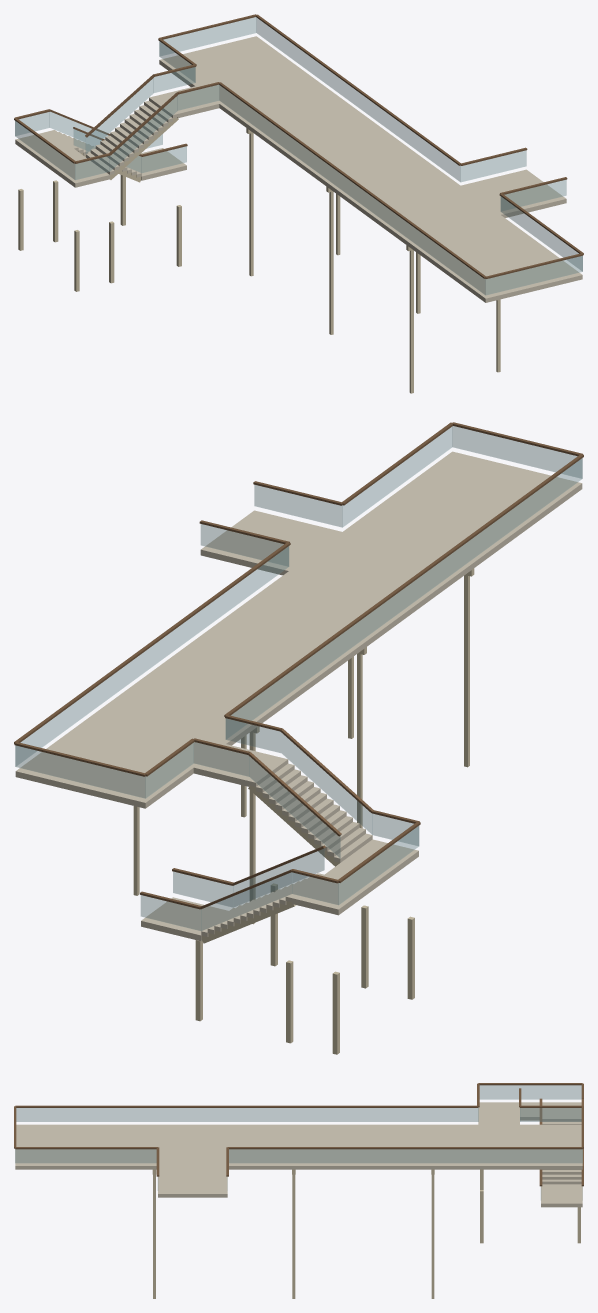
File: ForemidOrchardReceiver_r002.glb
The picture shows the model from 3 angles, top to bottom: view 1: azimuth 30°, elevation 25°; view 2: azimuth 150°, elevation 25°; view 3: azimuth 270°, elevation 25°; orthographic projection. The views are drawn at different scales.
Parts seen in each view (by area): view 1: UpperStationGallery, GalleryWestSouth_glass, GalleryEastNorth_glass, MissingOnlyOverRailReceiving, MidLanding, ThirdStopHold_glass, GalleryNorth_glass, GalleryEastSouth_glass, GalleryWestSouth_handrail, UpperStairArrival, LowerStairArrival, BridgeNorth_glass (+16 smaller); view 2: UpperStationGallery, GalleryWestSouth_glass, GalleryEastNorth_glass, MissingOnlyOverRailReceiving, MidLanding, GalleryNorth_glass, ThirdStopHold_glass, GalleryEastSouth_glass, LowerStairArrival, GalleryWestSouth_handrail, WestGlass0, UpperStairArrival (+17 smaller); view 3: UpperStationGallery, GalleryWestSouth_glass, GalleryEastNorth_glass, MissingOnlyOverRailReceiving, GalleryEastSouth_glass, MidWest_glass, GalleryWestSouth_handrail, GalleryEastNorth_handrail, LowerStairArrival, MidLanding, GalleryWestNorth_glass, UpperStairArrival (+5 smaller).
Boxes of the visible parts, <box> form: UpperStationGallery: <box>159,36,582,302</box>; GalleryWestSouth_glass: <box>219,85,485,294</box>; GalleryEastNorth_glass: <box>256,18,460,181</box>; MissingOnlyOverRailReceiving: <box>461,169,566,217</box>; MidLanding: <box>15,131,109,187</box>; ThirdStopHold_glass: <box>486,256,582,294</box>; GalleryNorth_glass: <box>159,17,256,55</box>; GalleryEastSouth_glass: <box>501,197,582,270</box>; GalleryWestSouth_handrail: <box>218,82,486,278</box>; UpperStairArrival: <box>154,86,219,118</box>; LowerStairArrival: <box>129,148,186,180</box>; BridgeNorth_glass: <box>461,150,526,181</box>; UpperStationGallery: <box>15,451,582,808</box>; GalleryWestSouth_glass: <box>226,458,582,738</box>; GalleryEastNorth_glass: <box>15,546,288,766</box>; MissingOnlyOverRailReceiving: <box>200,510,341,575</box>; MidLanding: <box>292,839,418,915</box>; GalleryNorth_glass: <box>15,745,145,798</box>; ThirdStopHold_glass: <box>452,426,582,478</box>; GalleryEastSouth_glass: <box>342,427,452,527</box>; LowerStairArrival: <box>141,897,228,941</box>; GalleryWestSouth_handrail: <box>224,454,583,716</box>; WestGlass0: <box>201,872,291,930</box>; UpperStairArrival: <box>193,744,280,786</box>; UpperStationGallery: <box>15,1124,582,1169</box>; GalleryWestSouth_glass: <box>16,1108,477,1121</box>; GalleryEastNorth_glass: <box>229,1149,582,1162</box>; MissingOnlyOverRailReceiving: <box>158,1166,227,1197</box>; GalleryEastSouth_glass: <box>15,1149,156,1162</box>; MidWest_glass: <box>480,1085,581,1099</box>; GalleryWestSouth_handrail: <box>15,1105,478,1107</box>; GalleryEastNorth_handrail: <box>227,1147,582,1149</box>; LowerStairArrival: <box>541,1184,582,1207</box>; MidLanding: <box>479,1102,581,1120</box>; GalleryWestNorth_glass: <box>520,1108,581,1121</box>; UpperStairArrival: <box>478,1107,519,1124</box>.
Size of the model in its own units: 17.79 by 9.68 by 32.74.
